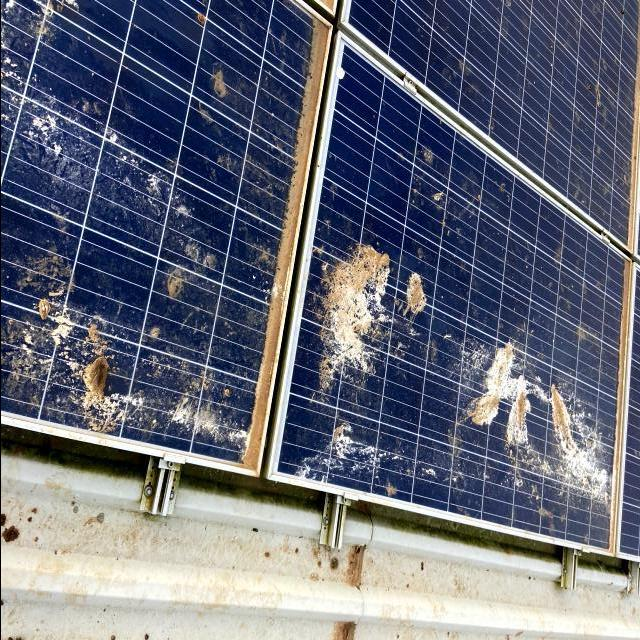soiled: (269, 3, 639, 573), (0, 5, 328, 486)
